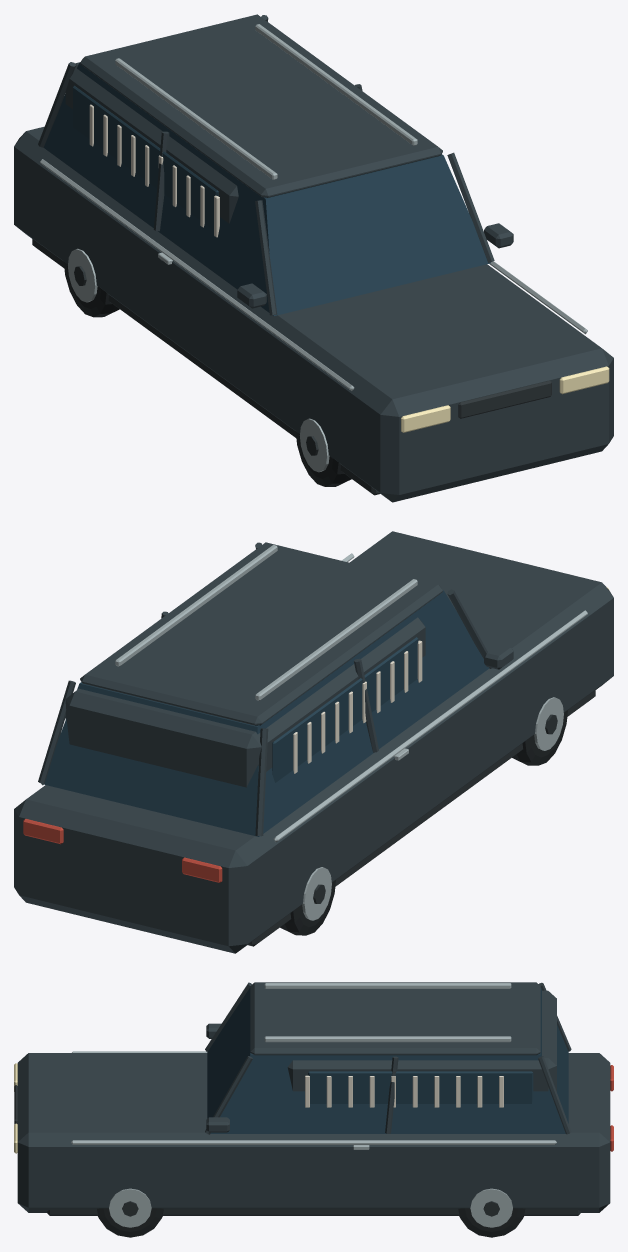
File: hearse-01.glb
3 renders of one model, top to bottom at view 1: azimuth 30°, elevation 25°; view 2: azimuth 150°, elevation 25°; view 3: azimuth 270°, elevation 25°, orthographic. The views are drawn at different scales.
Parts seen in each view (by area): view 1: Body, Glass, Roof, CurtainWindow, RearCompartment, ChromeTrim, Sill, FrontGrille, RoofRail.001, RoofRail, Rim_FR, Rim_RR (+9 smaller); view 2: Body, Roof, Glass, RearCompartment, CurtainWindow, ChromeTrim, Sill, RoofRail, RoofRail.001, Rim_RR, Rim_FR, WindowPillar.002 (+7 smaller); view 3: Body, Roof, Glass, CurtainWindow.001, RearCompartment, Sill, ChromeTrim.001, RoofRail.001, RoofRail, Rim_FL, Rim_RL, Tyre_FL (+5 smaller).
Boxes of the visible parts, left/top/right/bottom form: Body: left=14, top=126, right=613, bottom=502; Glass: left=43, top=62, right=490, bottom=315; Roof: left=80, top=14, right=442, bottom=197; CurtainWindow: left=73, top=85, right=218, bottom=229; RearCompartment: left=65, top=62, right=238, bottom=223; ChromeTrim: left=40, top=159, right=354, bottom=390; Sill: left=32, top=239, right=379, bottom=495; FrontGrille: left=458, top=380, right=551, bottom=418; RoofRail.001: left=255, top=24, right=417, bottom=145; RoofRail: left=115, top=58, right=277, bottom=179; Rim_FR: left=299, top=418, right=329, bottom=472; Rim_RR: left=68, top=248, right=97, bottom=302; Body: left=14, top=531, right=613, bottom=953; Roof: left=80, top=542, right=442, bottom=725; Glass: left=42, top=590, right=489, bottom=836; RearCompartment: left=65, top=617, right=425, bottom=787; CurtainWindow: left=272, top=637, right=418, bottom=782; ChromeTrim: left=273, top=610, right=587, bottom=842; Sill: left=248, top=690, right=595, bottom=946; RoofRail: left=255, top=579, right=417, bottom=700; RoofRail.001: left=115, top=545, right=277, bottom=666; Rim_RR: left=302, top=867, right=331, bottom=920; Rim_FR: left=534, top=697, right=563, bottom=750; WindowPillar.002: left=255, top=728, right=268, bottom=836; Body: left=17, top=1053, right=610, bottom=1212; Roof: left=250, top=982, right=540, bottom=1055; Glass: left=207, top=987, right=568, bottom=1133; CurtainWindow.001: left=308, top=1071, right=533, bottom=1103; RearCompartment: left=287, top=990, right=556, bottom=1091; Sill: left=47, top=1209, right=580, bottom=1215; ChromeTrim.001: left=71, top=1140, right=556, bottom=1144; RoofRail.001: left=264, top=1036, right=511, bottom=1042; RoofRail: left=264, top=983, right=511, bottom=988; Rim_FL: left=109, top=1188, right=151, bottom=1227; Rim_RL: left=470, top=1188, right=512, bottom=1227; Tyre_FL: left=97, top=1208, right=163, bottom=1237.
Size of the model in its own units: 2.21 by 1.9 by 5.57.
